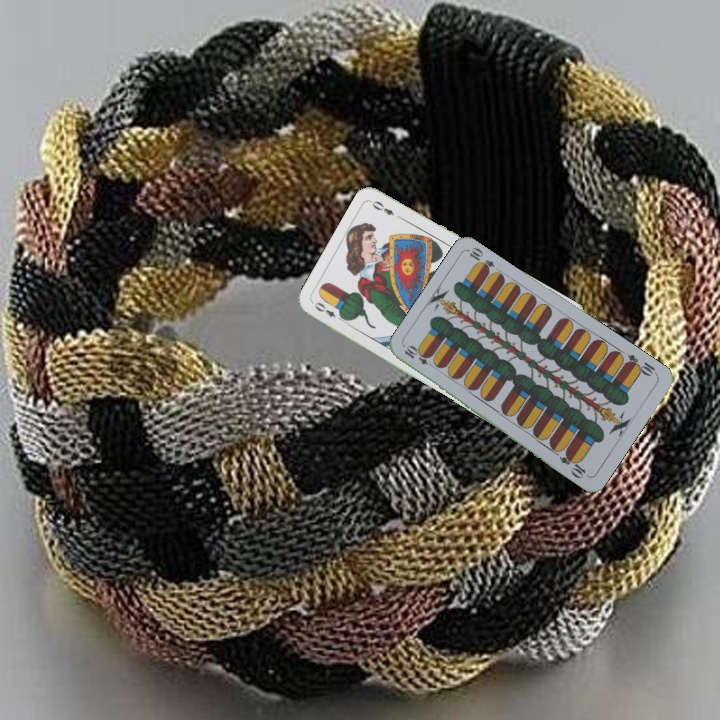E10: (621, 350, 660, 379), (400, 342, 438, 371)
EO: (310, 298, 347, 325)
